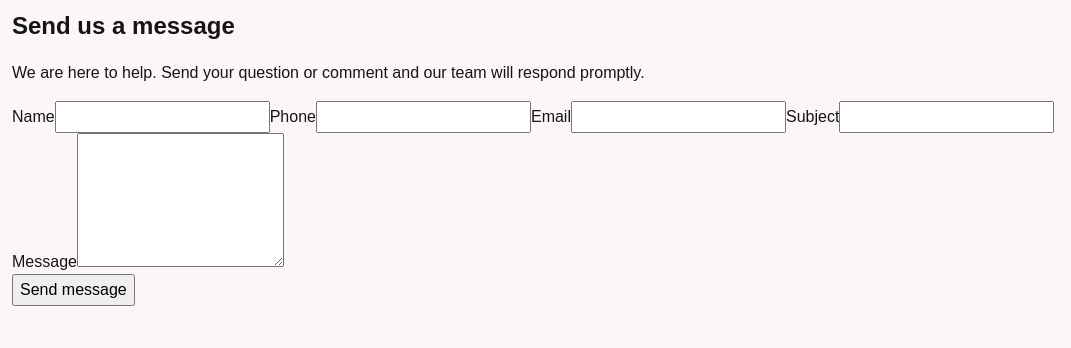
it: ContactForm component › should show success message after successful submission
In the field labelled "Name": (162, 117) [55,101,270,133], type "Alice"
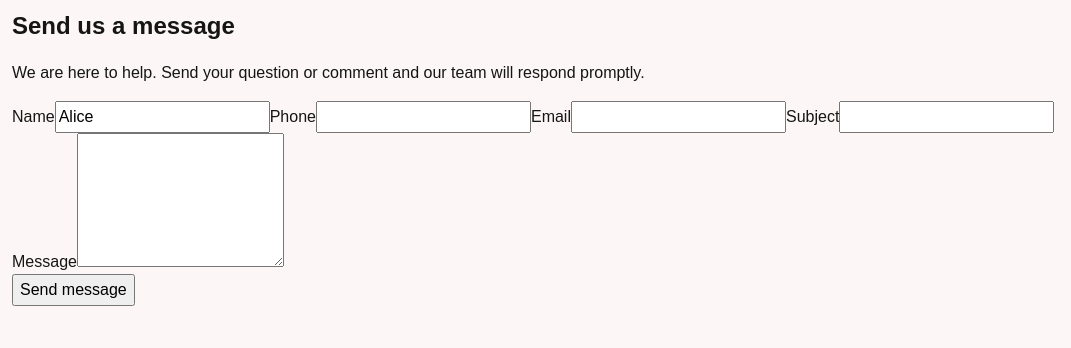
In the field labelled "Email": (678, 117) [571,101,786,133], type "alice@example.com"
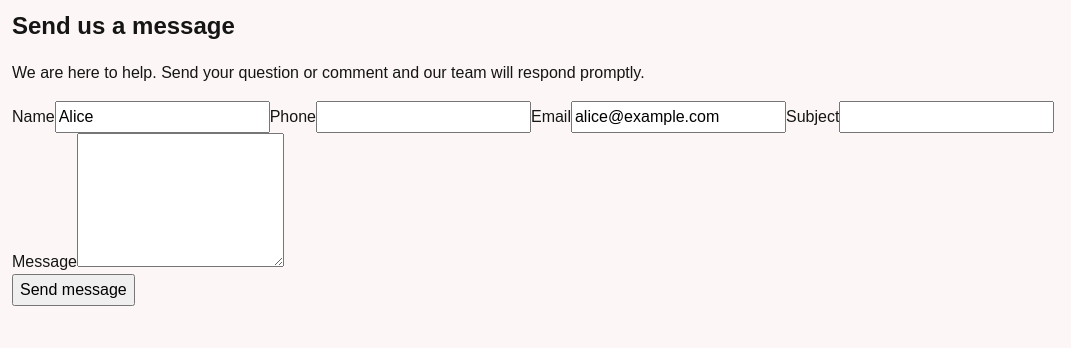
In the text box labelled "Message": (180, 200) [77,133,284,267], type "Hello there"
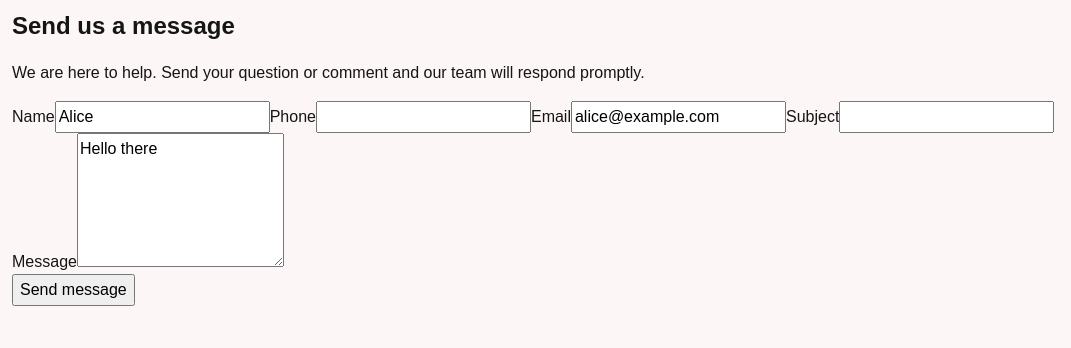
Click the button "Send message": (73, 290) [12,274,135,306]
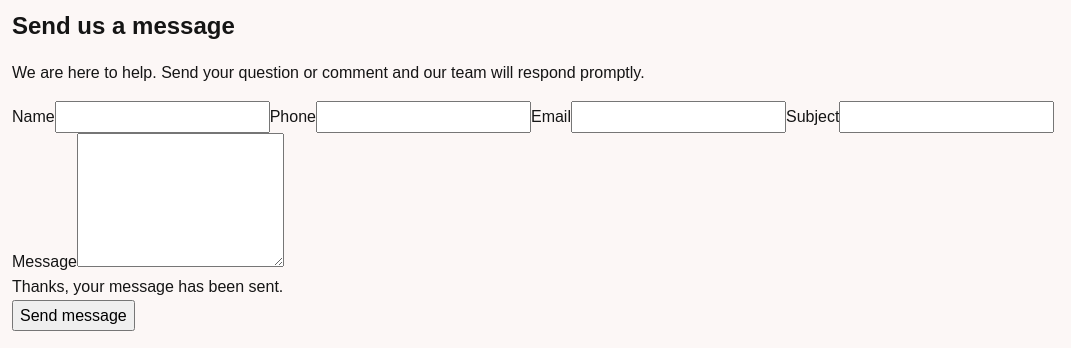
Check: the text "Thanks, your message has been sent." is shown, box [12,278,283,295]
